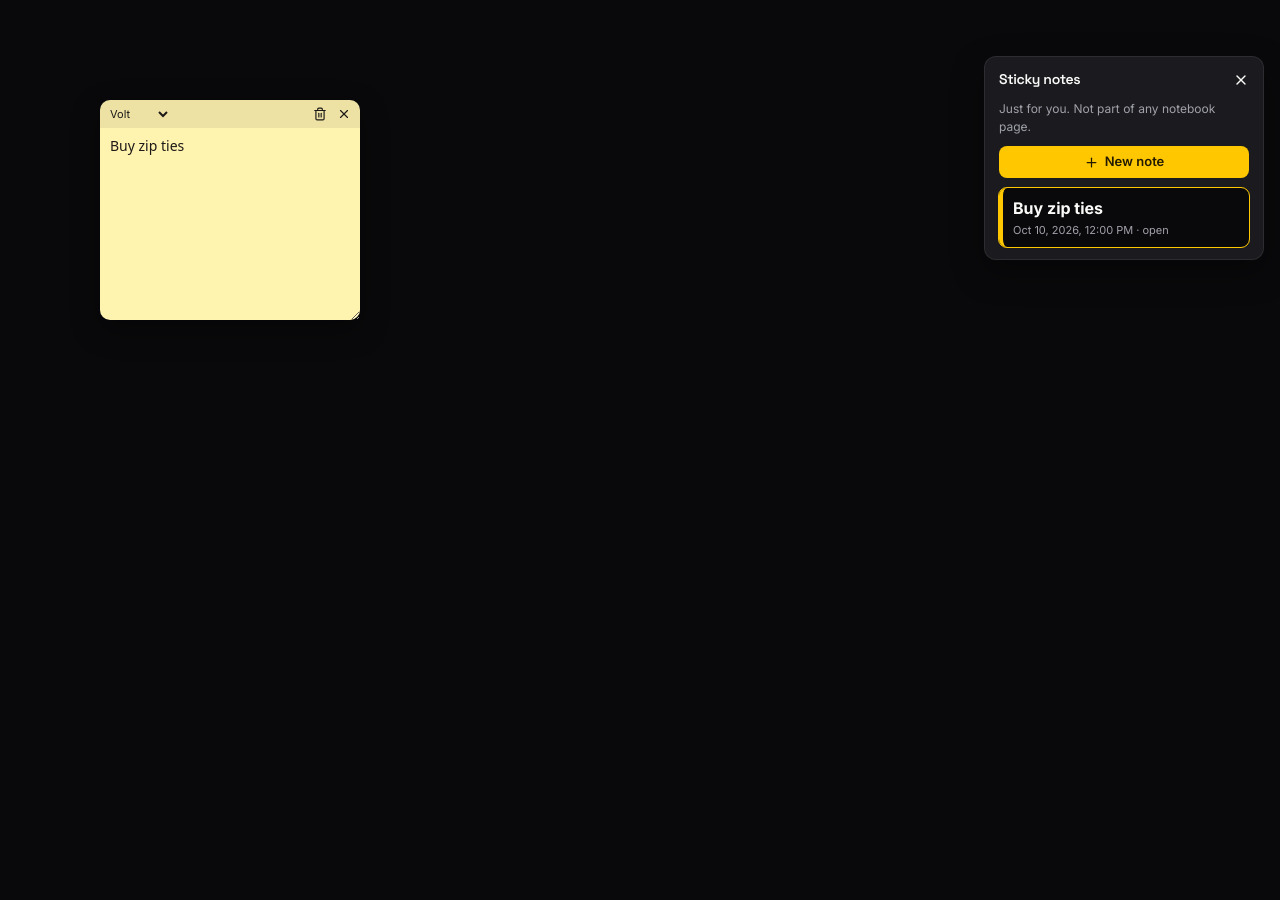
Test: Sticky notes › sends one save at a time per note and keeps every unsaved field for Retry
Select "Sky" in the dropdown named "Note color" at (138, 114), box 106,106 -> 171,122
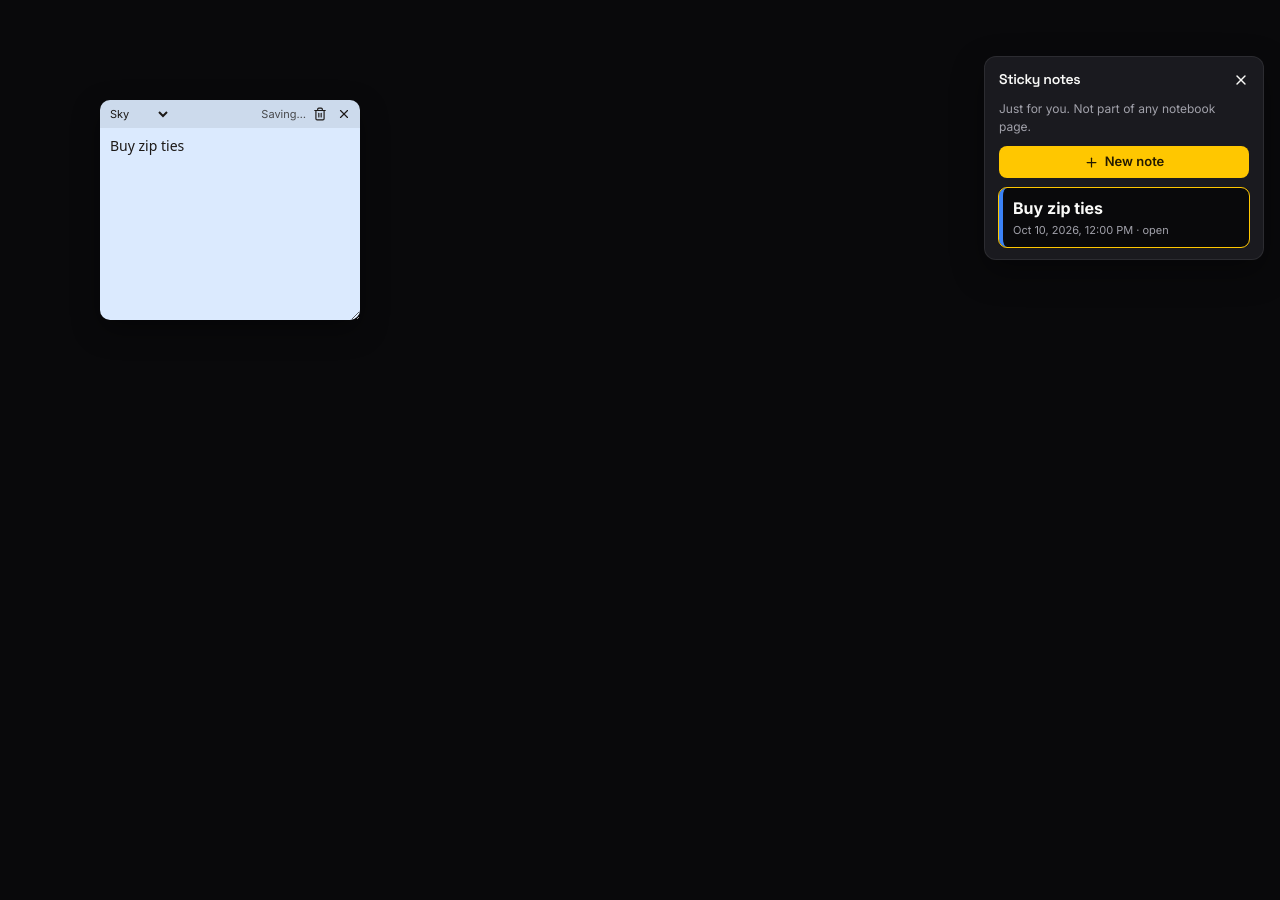
While the first save is in flight, more changes queue up behind it.
Press ArrowDown in the header named "Move note (arrow keys)", box 100,100 -> 360,128
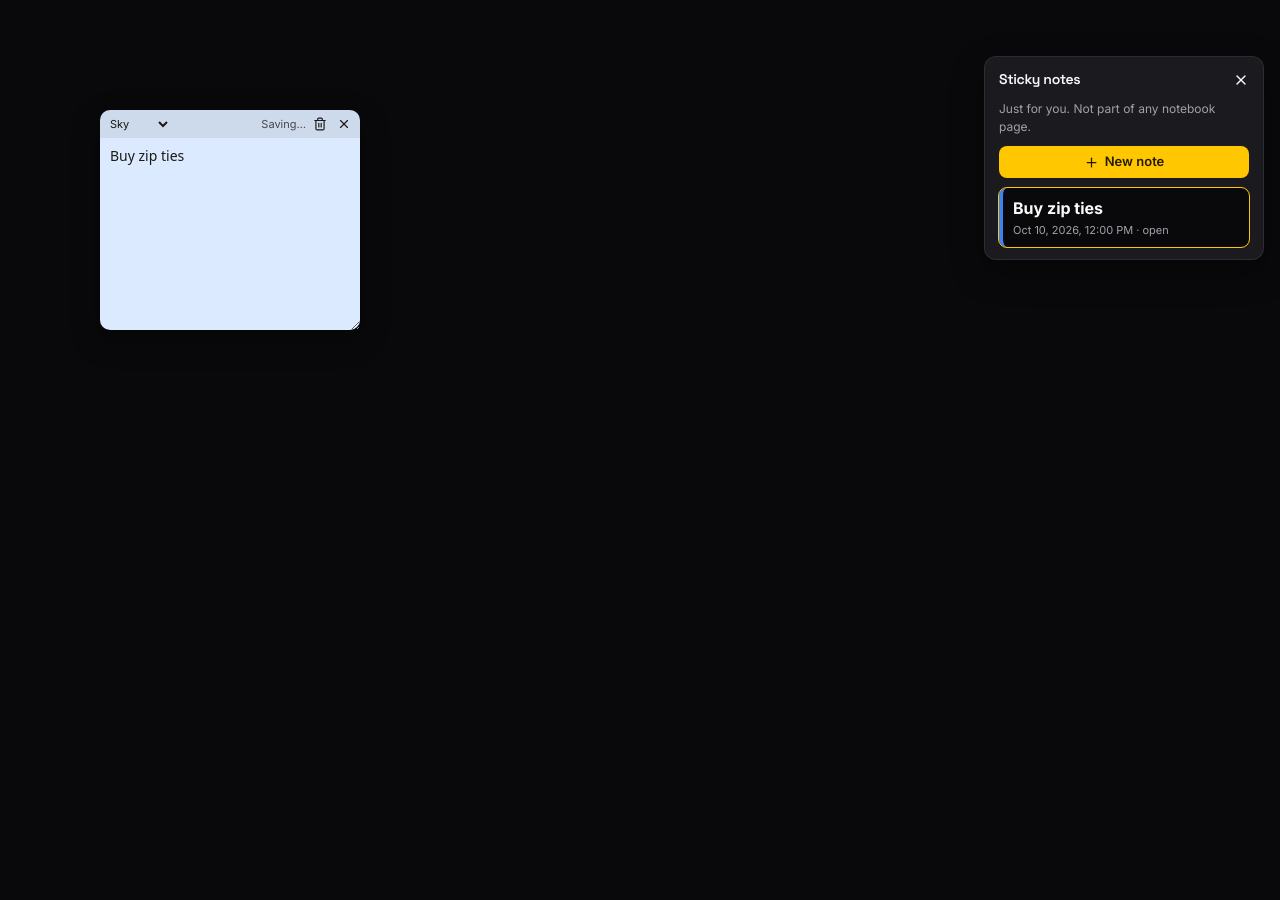
Select "Rose" in the dropdown named "Note color" at (138, 124), box 106,116 -> 171,132
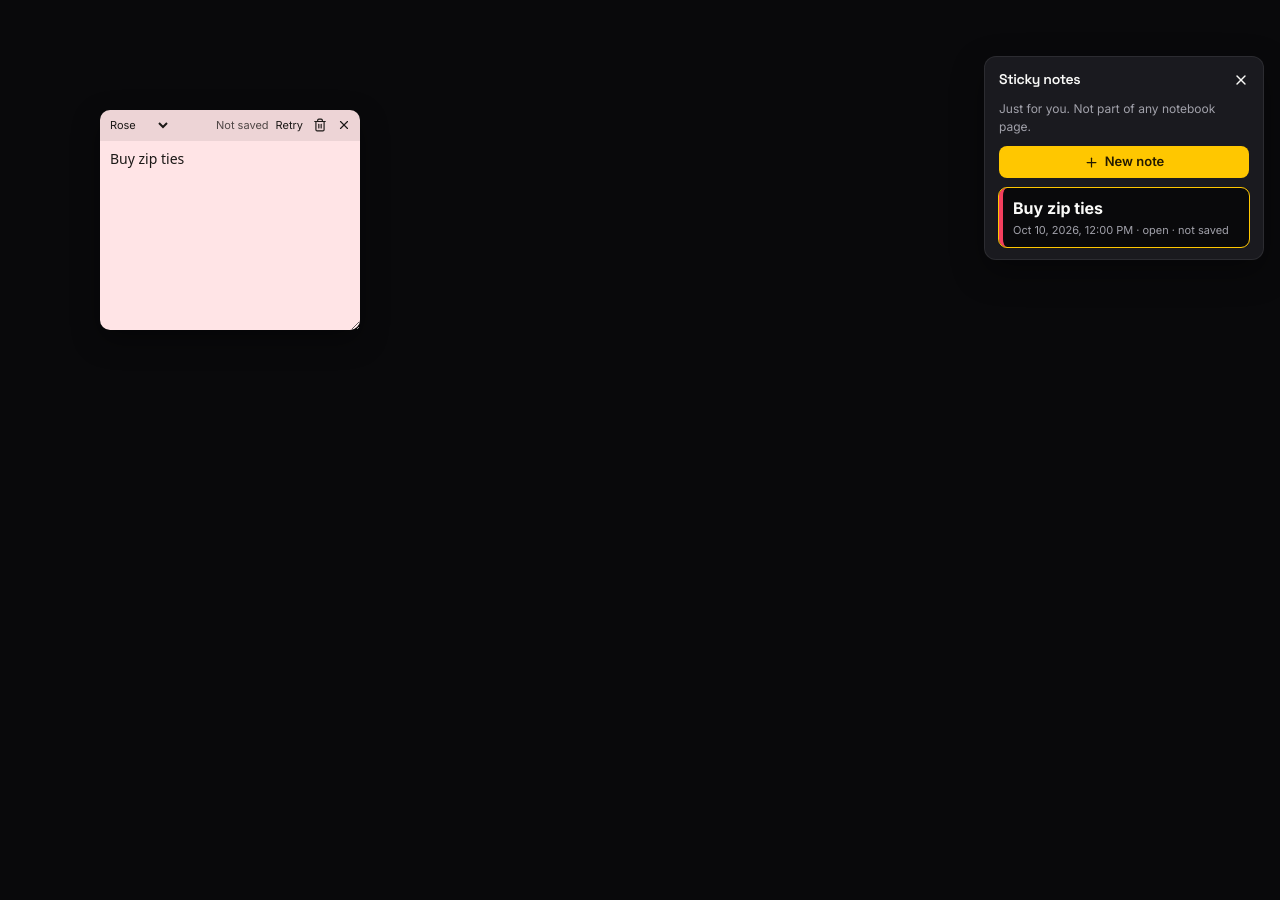
Check: the text "Not saved" is shown, box 216,117 -> 268,134
Click the button "Retry".
click(289, 125)  # box 273,114 -> 306,136
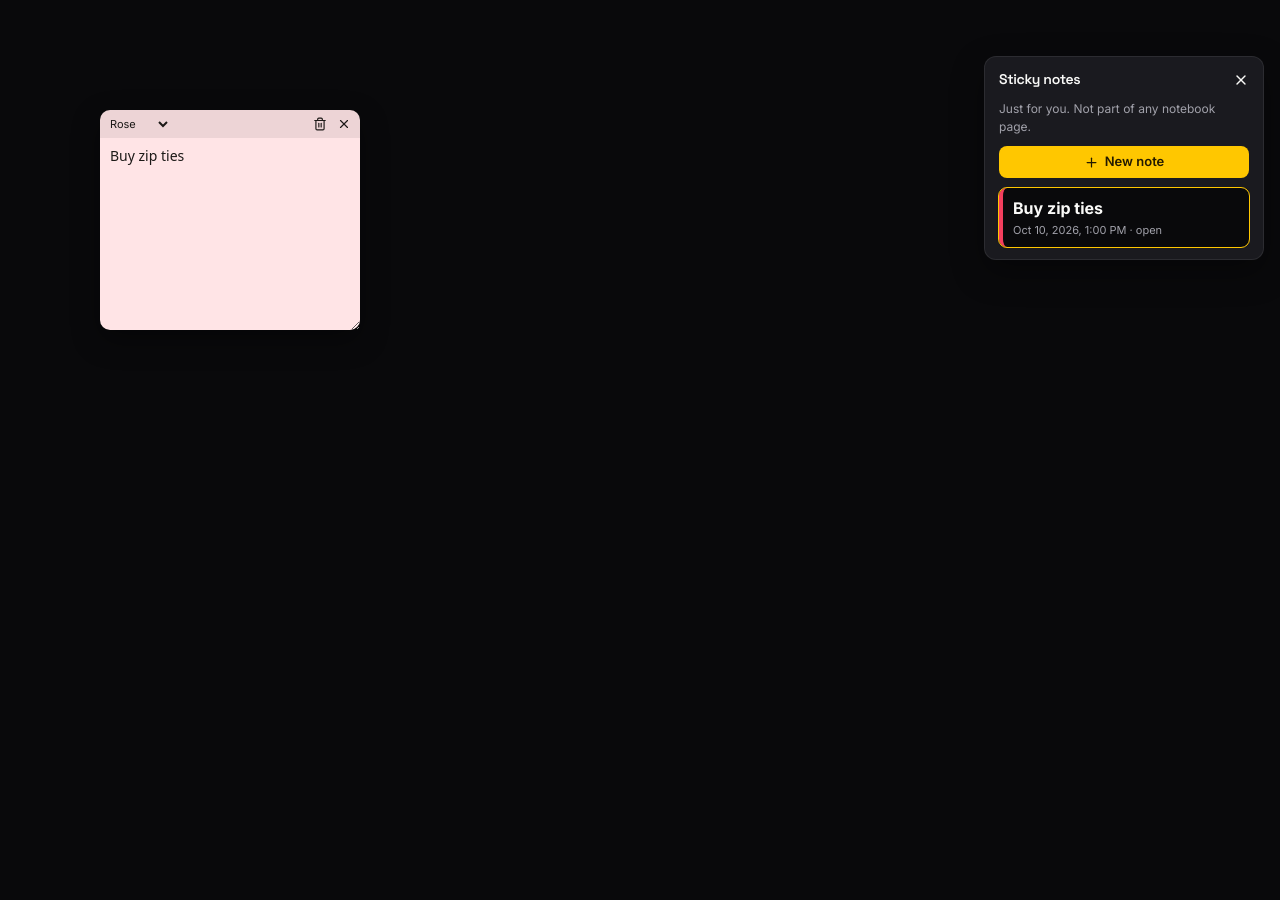
Check: the button "not saved" is gone
